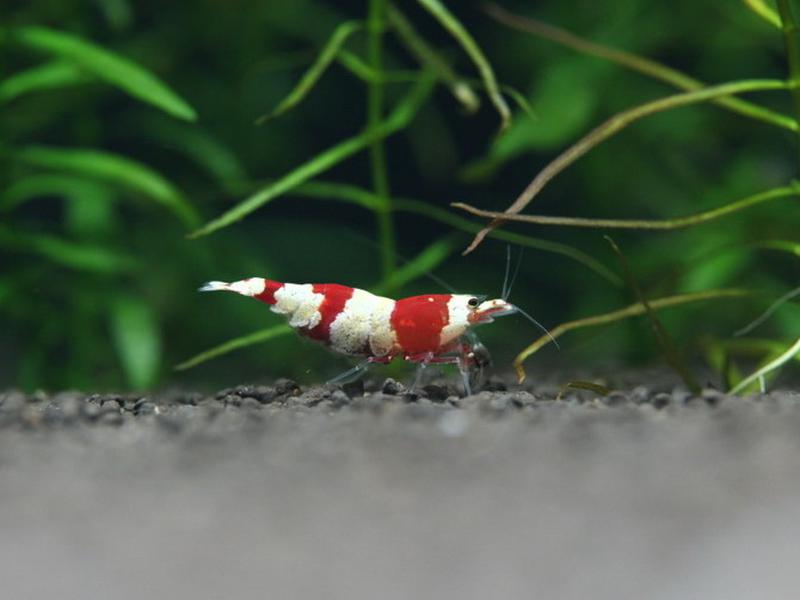shrimp: (199, 274, 518, 395)
